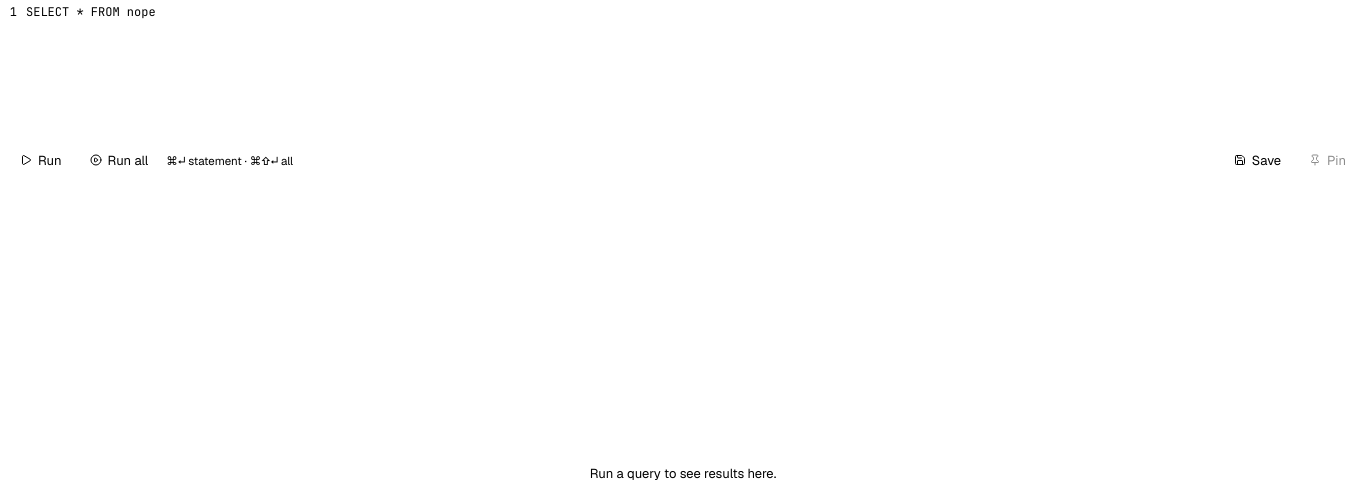
QueryTab › shows server errors with their code
Click the button "Run" at (41, 160), box [10,147,72,173]
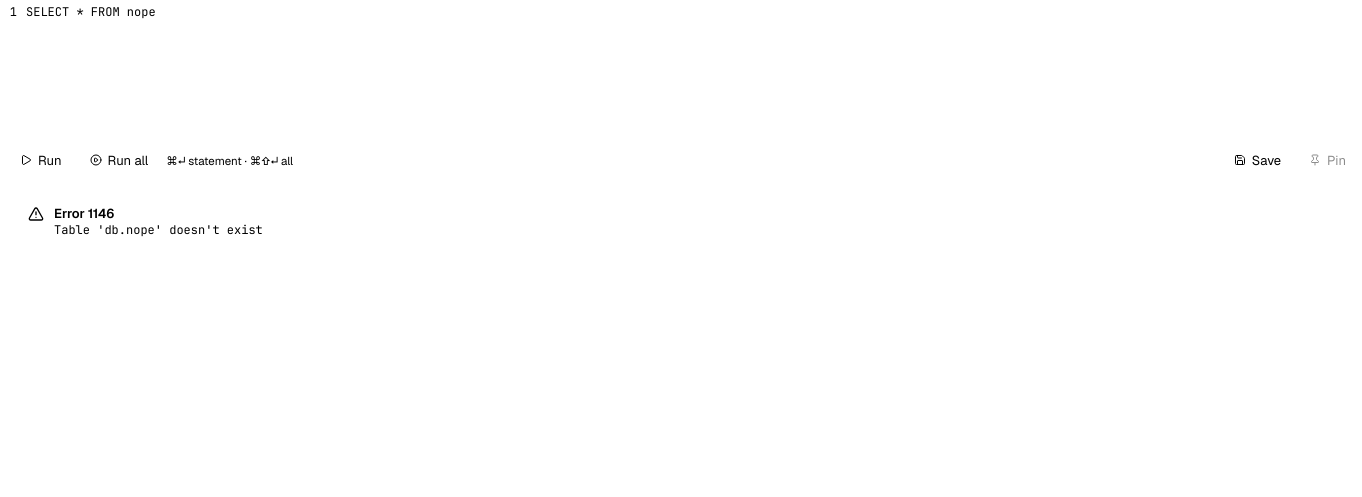
Expected: the message shows "Error 1146", [28,205,263,238]
Expected: the message shows "Table 'db.nope' doesn't exist", [54,222,263,238]
